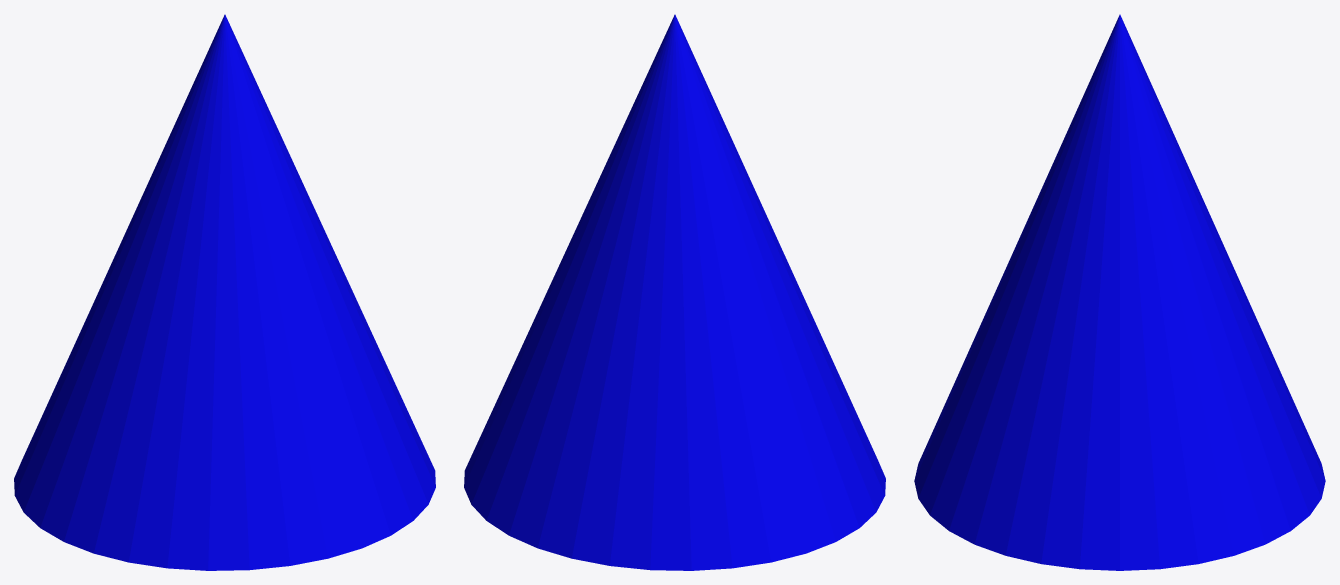
File: cone-blue.glb
3 renders of one model, left to right at view 1: azimuth 30°, elevation 25°; view 2: azimuth 150°, elevation 25°; view 3: azimuth 270°, elevation 25°, orthographic.
Visible parts, largest first — view 1: Cone; view 2: Cone; view 3: Cone.
Boxes of the visible parts, x1=… form: Cone: x1=14, y1=14, x2=435, y2=570; Cone: x1=464, y1=14, x2=885, y2=570; Cone: x1=914, y1=14, x2=1325, y2=570.
Bounding box in the file's own units: 3.34 × 4.05 × 3.23.
